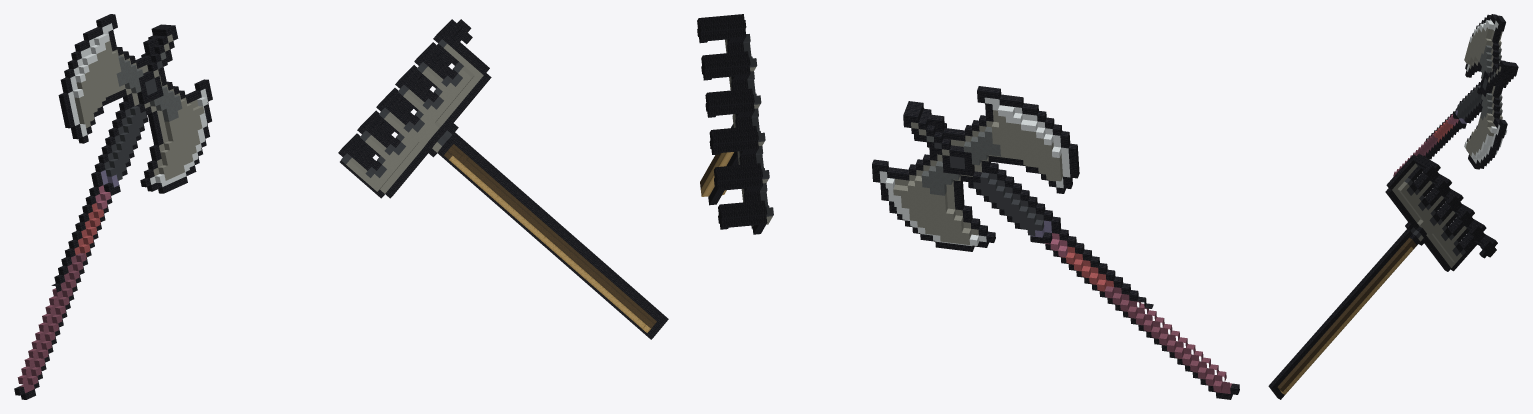
The model's file is AxePlusRastrillo.glb.
3 views of the same model, side by side, from view 1: azimuth 30°, elevation 25°; view 2: azimuth 150°, elevation 25°; view 3: azimuth 270°, elevation 25° (orthographic). The views are drawn at different scales.
Parts seen in each view (by area): view 1: node_9.001, node_5, node_3, node_7, node_9, node_13, node_11, node_14, node_1; view 2: node_9.001, node_6, node_4, node_5, node_3, node_8, node_9, node_7, node_13, node_10, node_14, node_11 (+2 smaller); view 3: node_9.001, node_5, node_3, node_9, node_7, node_1, node_11.
Boxes of the visible parts, bbox=[...] form: node_9.001: bbox=[338, 19, 668, 339]; node_5: bbox=[112, 86, 207, 193]; node_3: bbox=[93, 14, 178, 110]; node_7: bbox=[58, 29, 114, 132]; node_9: bbox=[68, 126, 129, 248]; node_13: bbox=[22, 274, 72, 386]; node_11: bbox=[58, 240, 94, 301]; node_14: bbox=[17, 288, 58, 384]; node_1: bbox=[191, 79, 212, 138]; node_9.001: bbox=[697, 14, 773, 234]; node_6: bbox=[893, 166, 1012, 245]; node_4: bbox=[903, 105, 1008, 176]; node_5: bbox=[894, 159, 1014, 251]; node_3: bbox=[905, 86, 1010, 173]; node_8: bbox=[1005, 106, 1062, 181]; node_9: bbox=[1012, 179, 1115, 281]; node_7: bbox=[1007, 95, 1079, 183]; node_13: bbox=[1137, 296, 1230, 388]; node_10: bbox=[1011, 199, 1098, 284]; node_14: bbox=[1135, 313, 1222, 392]; node_11: bbox=[1084, 276, 1141, 324]; node_9.001: bbox=[1268, 153, 1497, 399]; node_5: bbox=[1464, 82, 1500, 169]; node_3: bbox=[1478, 15, 1513, 104]; node_9: bbox=[1436, 64, 1474, 140]; node_7: bbox=[1464, 14, 1496, 72]; node_1: bbox=[1488, 119, 1507, 157]; node_11: bbox=[1423, 127, 1448, 159].
Size of the model in its own units: 94.82 by 49.56 by 47.93.
Materials: 2 (2 with a texture image).
